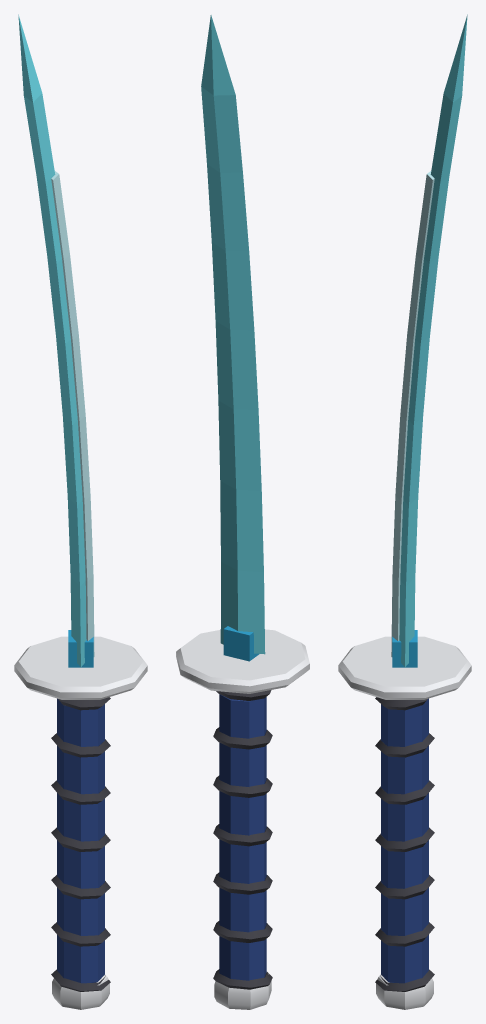
The model's file is DiamondKatana.fbx.
3 renders of one model, left to right at view 1: azimuth 90°, elevation 25°; view 2: azimuth 150°, elevation 25°; view 3: azimuth 270°, elevation 25°, orthographic. The views are drawn at different scales.
Parts seen in each view (by area): view 1: DiamondKatana; view 2: DiamondKatana; view 3: DiamondKatana.
Boxes of the visible parts, x1,y1,x2,y2 form: DiamondKatana: (14,14,147,1009); DiamondKatana: (176,15,309,1009); DiamondKatana: (338,14,471,1009).
Bounding box in the file's own units: 0.6087 × 5.22 × 0.64.
1 material, 1 textured.
